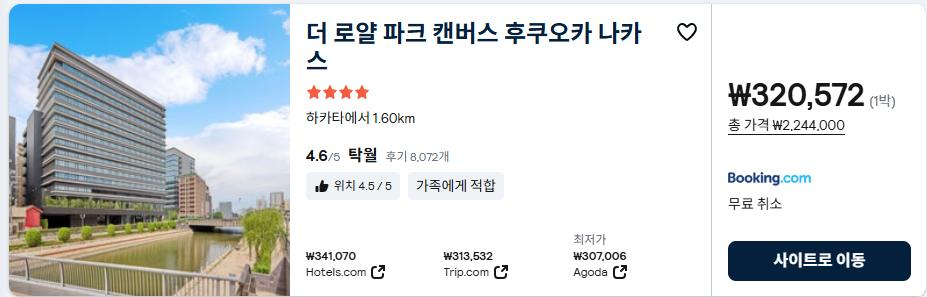button: (723, 234, 917, 289), (428, 262, 524, 285), (302, 265, 395, 285), (568, 262, 635, 283), (670, 16, 708, 50)
